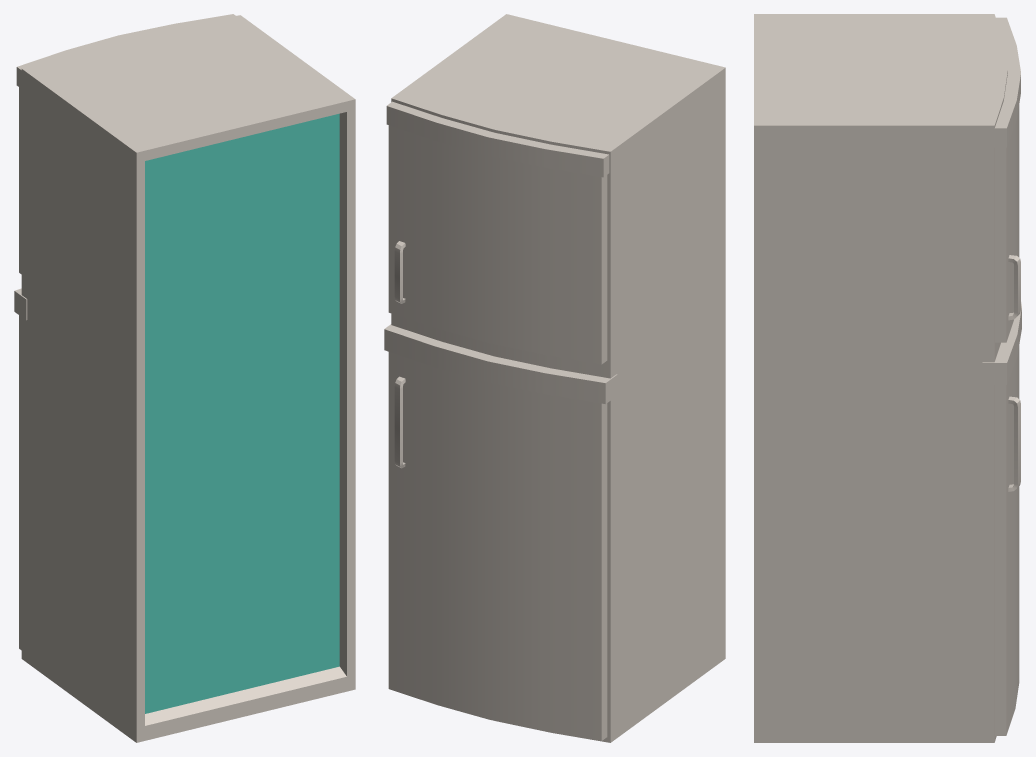
The model's file is kuehlschrank_hoch.glb.
3 renders of one model, left to right at view 1: azimuth 30°, elevation 25°; view 2: azimuth 150°, elevation 25°; view 3: azimuth 270°, elevation 25°, orthographic. The views are drawn at different scales.
Visible parts, largest first — view 1: Kitchen_Fridge; view 2: Kitchen_Fridge; view 3: Kitchen_Fridge.
Part boxes in pixels (bbox=[...]): Kitchen_Fridge: bbox=[14, 14, 355, 742]; Kitchen_Fridge: bbox=[384, 14, 725, 742]; Kitchen_Fridge: bbox=[754, 14, 1021, 742].
Size of the model in its own units: 0.7452 by 1.9 by 0.7476.
